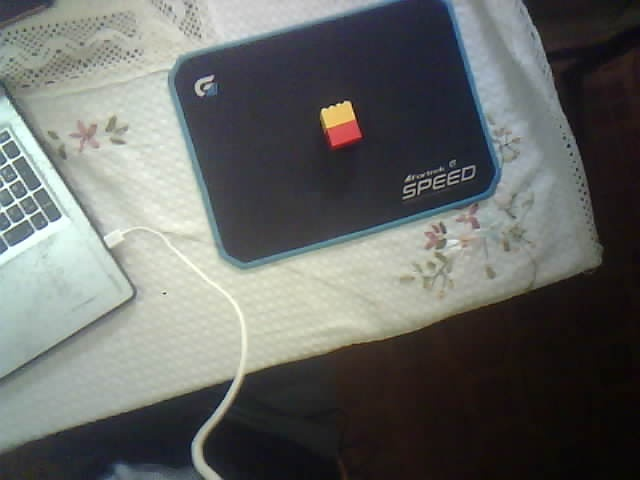lego: (318, 100, 362, 151)
